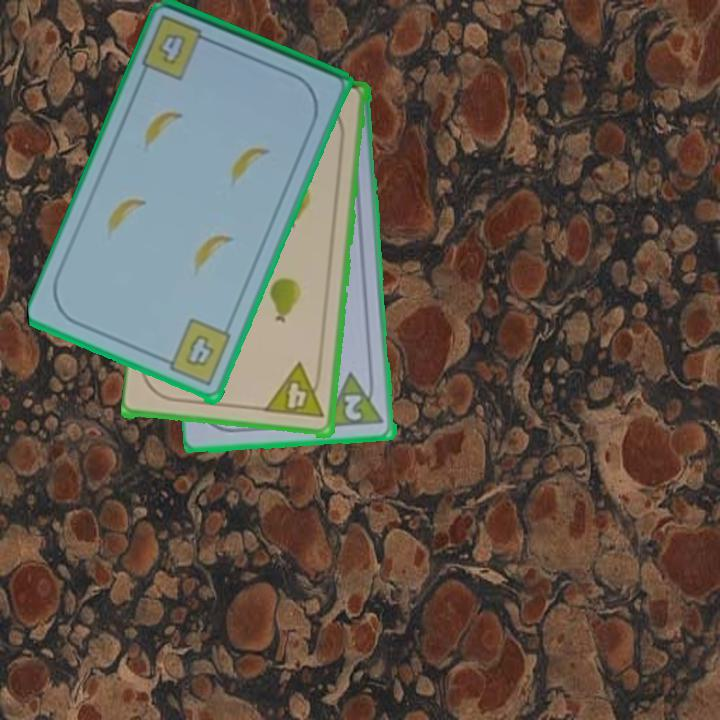2p: (323, 368, 387, 431)
4b: (138, 12, 218, 84), (157, 316, 234, 390)
4p: (262, 361, 328, 422)
